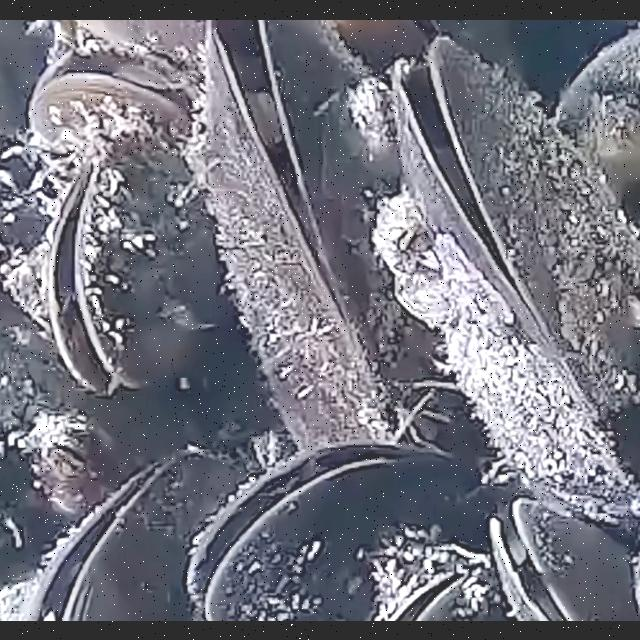Oyster-Open: (374, 35, 640, 525), (189, 19, 453, 455), (188, 438, 464, 620), (41, 127, 222, 397), (31, 448, 253, 620), (29, 38, 202, 184), (492, 498, 640, 620), (381, 558, 481, 620)
